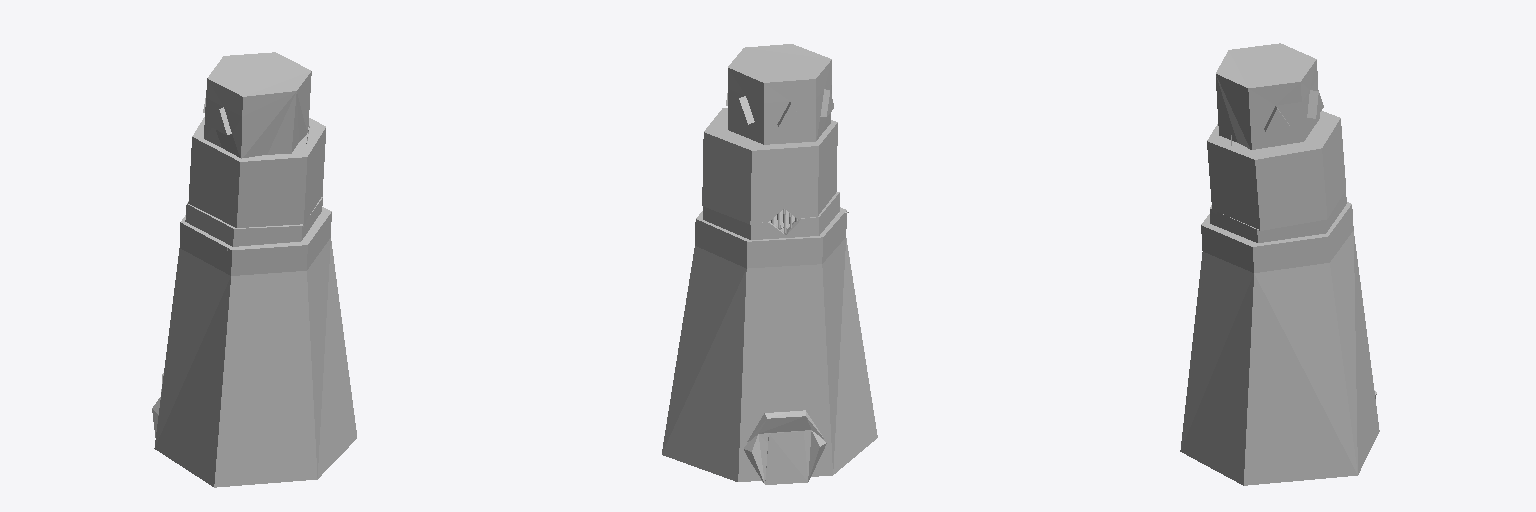
The model's file is model-triangulated.obj.
3 views of the same model, side by side, from view 1: azimuth 30°, elevation 25°; view 2: azimuth 150°, elevation 25°; view 3: azimuth 270°, elevation 25° (orthographic).
Visible parts, largest first — view 1: group[number redacted], group[number redacted], group[number redacted], group[number redacted]; view 2: group[number redacted], group[number redacted], group[number redacted], group[number redacted], group[number redacted], group[number redacted]; view 3: group[number redacted], group[number redacted], group[number redacted], group[number redacted].
Part boxes in pixels (x1,y1,x2,y2): group[number redacted]: (154, 207, 356, 487); group[number redacted]: (188, 117, 325, 227); group[number redacted]: (203, 52, 311, 158); group[number redacted]: (185, 197, 322, 246); group[number redacted]: (662, 207, 877, 481); group[number redacted]: (702, 108, 837, 224); group[number redacted]: (726, 44, 833, 144); group[number redacted]: (744, 410, 826, 483); group[number redacted]: (703, 192, 839, 239); group[number redacted]: (765, 431, 807, 484); group[number redacted]: (1180, 202, 1379, 485); group[number redacted]: (1207, 111, 1345, 230); group[number redacted]: (1216, 43, 1323, 149); group[number redacted]: (1210, 190, 1346, 242).
Size of the model in its own units: 0.4055 by 0.8827 by 0.42.